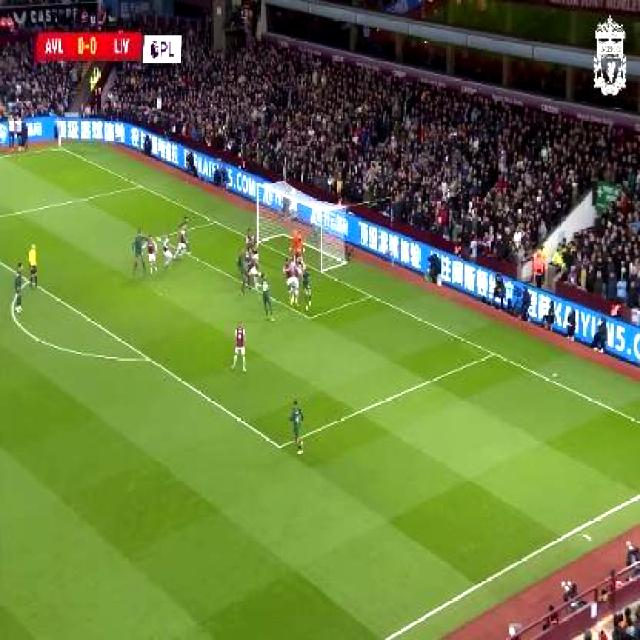bigarea_bottom_inner: (274, 438, 286, 456)
bigarea_bottom_outter: (488, 346, 497, 359)
bigarea_top_outter: (136, 182, 144, 190)
bottom_arc_area_intersection: (142, 351, 152, 366)
corner: (52, 143, 63, 151)
smallarea_bottom_inner: (304, 309, 316, 325)
smallarea_bottom_outter: (364, 289, 376, 302)
smallarea_top_outter: (210, 215, 218, 228)
top_arc_area_intersection: (26, 274, 32, 284)
